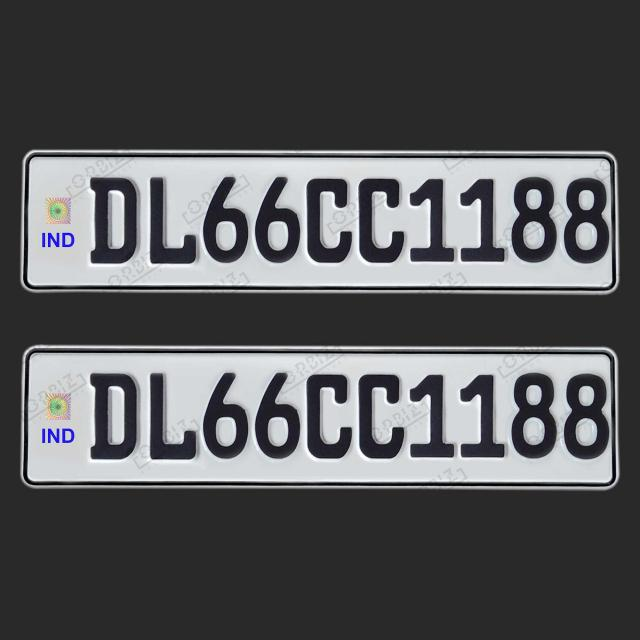plate: (21, 346, 620, 488), (22, 153, 619, 294)
